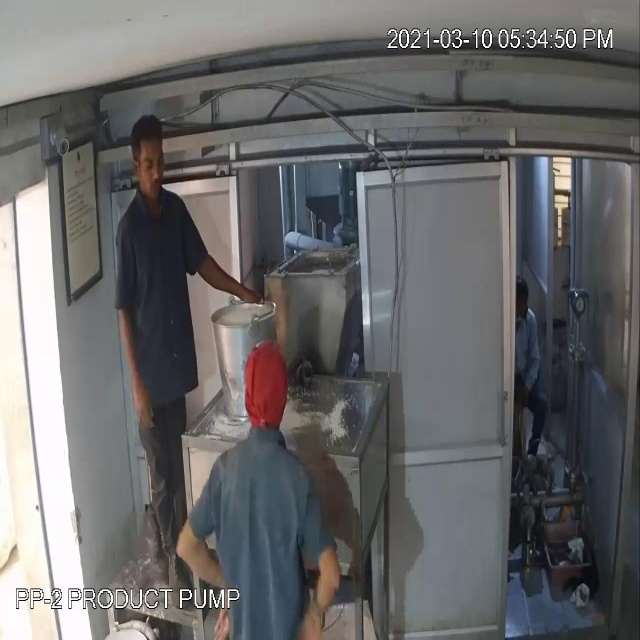Sin_guantes: (170, 511, 236, 634), (112, 284, 159, 438), (186, 235, 260, 324), (304, 517, 344, 640)
